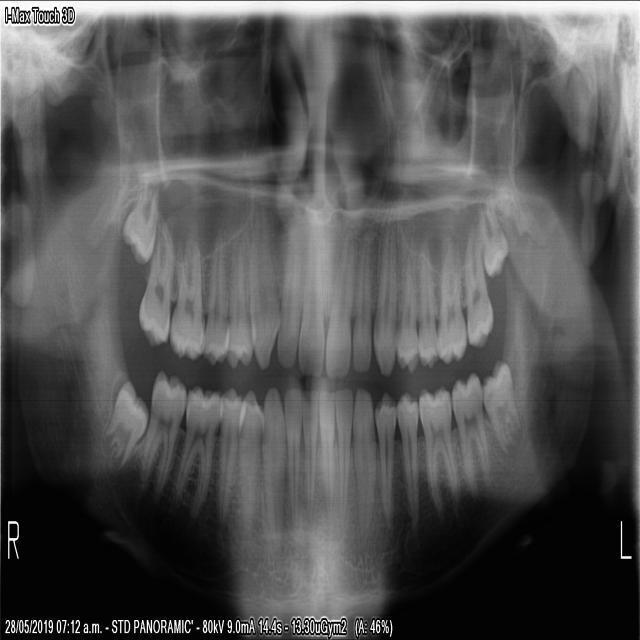LCD: (350, 383, 375, 550)
LCU: (370, 202, 397, 377)
LID: (333, 384, 352, 537), (316, 386, 334, 535)
LIU: (322, 221, 356, 382), (350, 219, 372, 373)
LMD: (417, 382, 458, 522), (449, 368, 488, 496), (480, 356, 520, 458)
LMU: (432, 226, 467, 365), (461, 216, 492, 350), (477, 189, 507, 277)
LPMD: (393, 388, 417, 537), (372, 390, 396, 525)
LPMU: (393, 212, 419, 375), (414, 226, 439, 370)
RCD: (259, 383, 285, 559)
RCU: (246, 198, 282, 372)
RID: (282, 386, 301, 536), (301, 386, 317, 529)
RIU: (294, 204, 324, 379), (274, 206, 303, 370)
RMD: (170, 381, 223, 520), (139, 366, 185, 506), (100, 378, 148, 472)
RMU: (135, 211, 172, 347), (167, 230, 204, 361), (118, 177, 159, 267)
RPMD: (215, 383, 244, 537), (236, 385, 263, 547)
RPMU: (221, 217, 252, 369), (199, 223, 229, 367)
